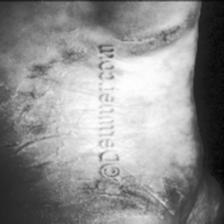Non-Cancerous Skin Condition: (0, 1, 95, 213), (122, 7, 196, 224)
